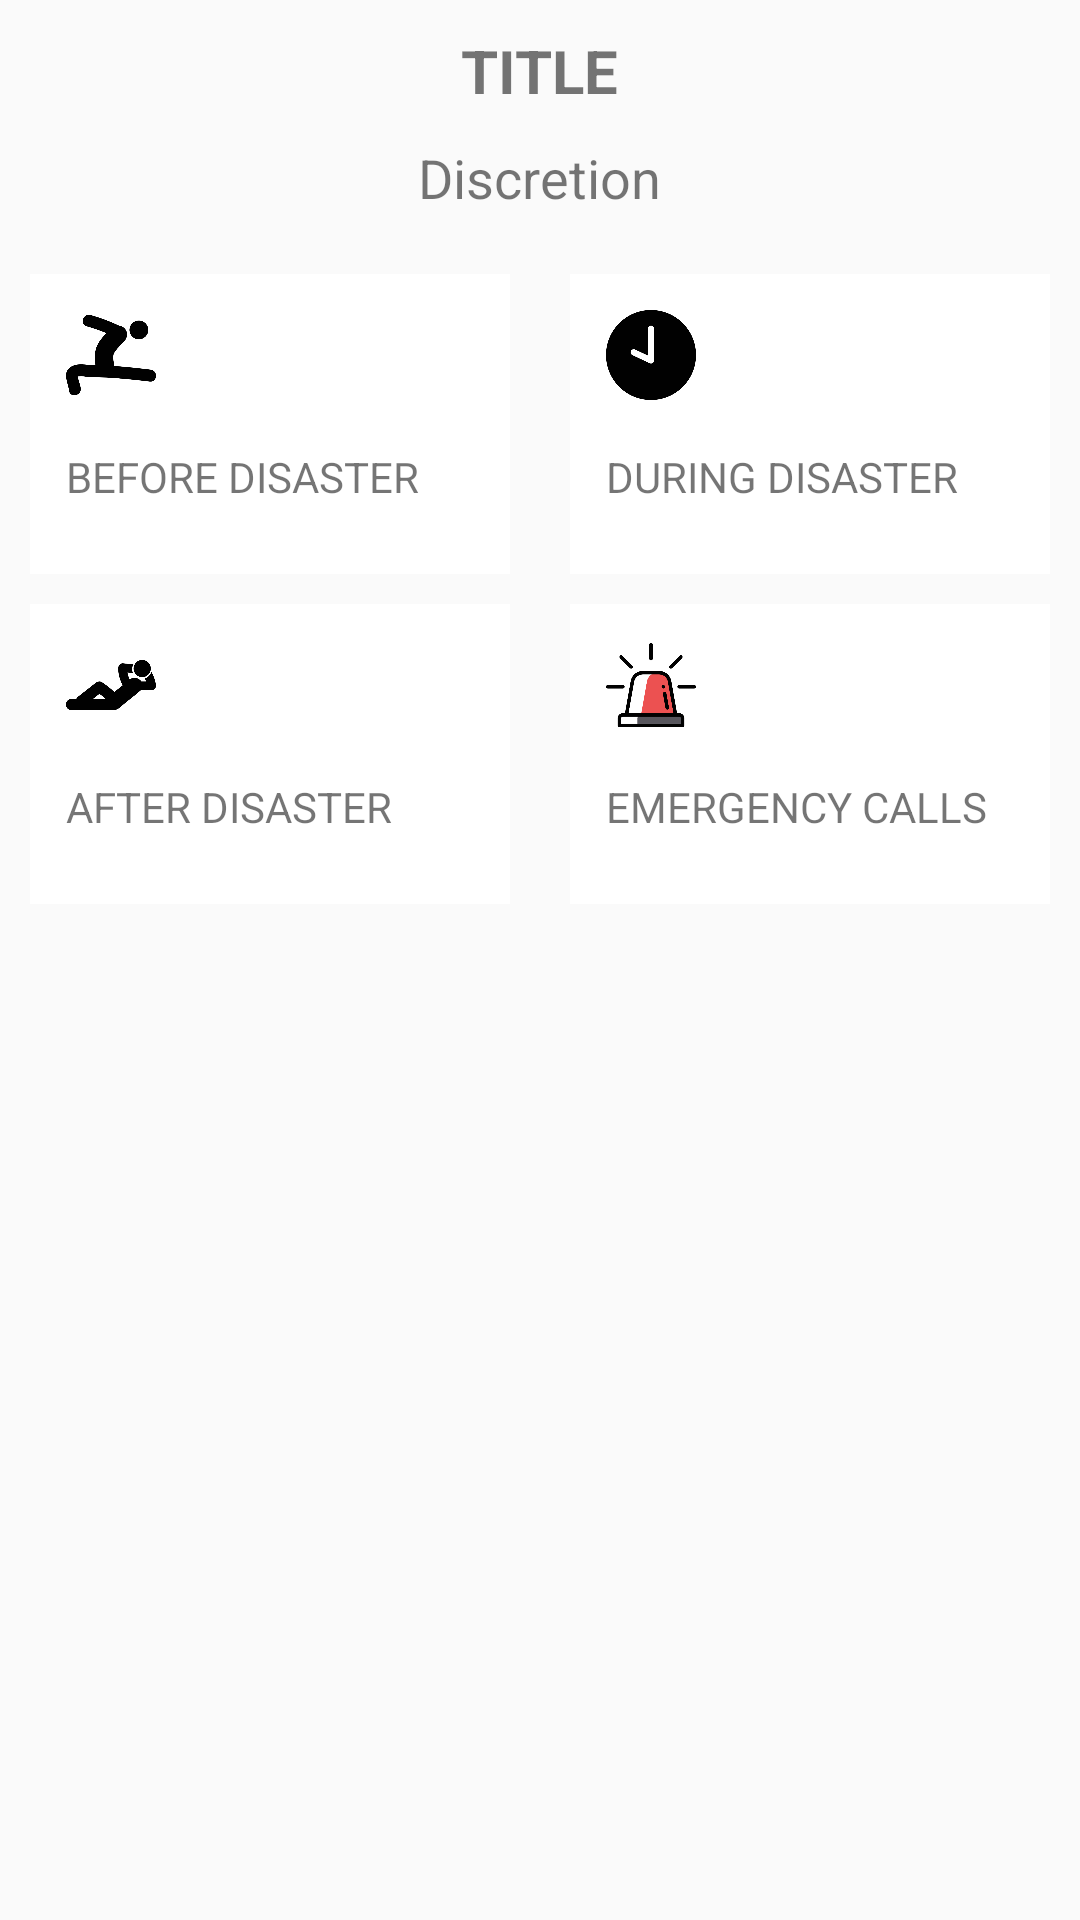

Icons on this 1080*1920 Android screen, each with the point to tap as point (x, y):
siren: point (651, 685)
